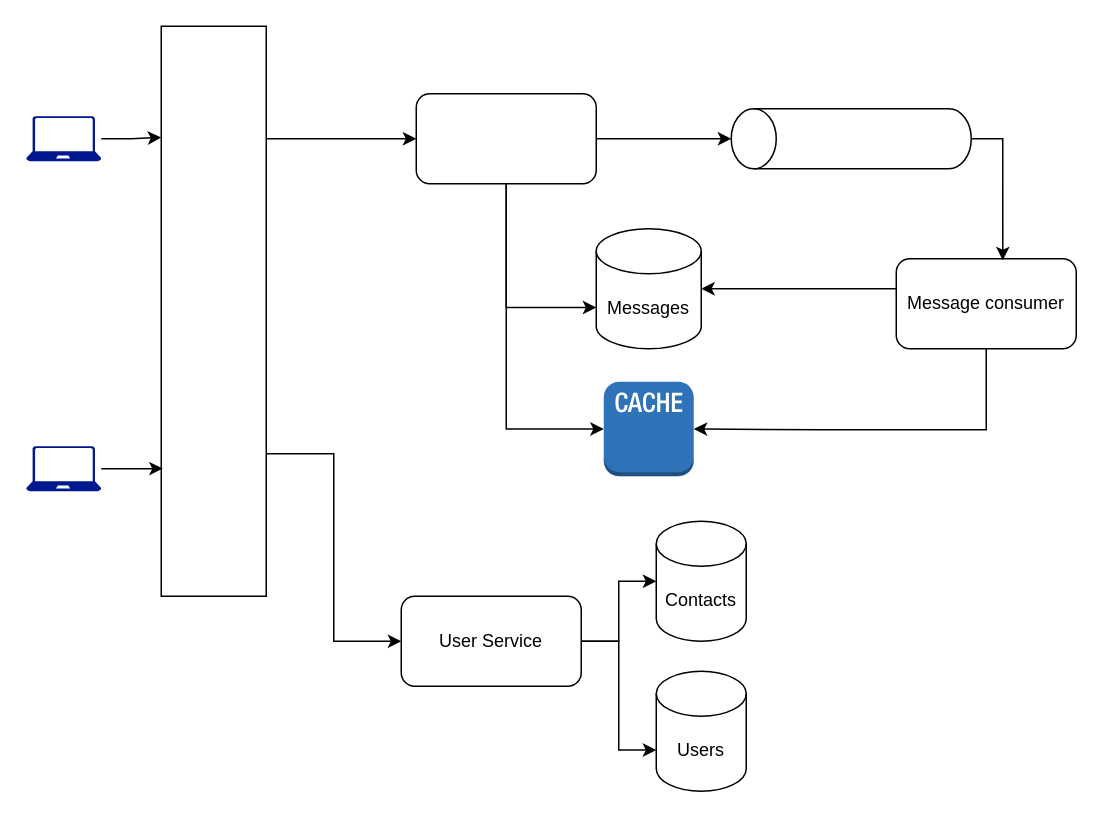
This 1103x818 diagram has some shape labels left out. Here are the shapes that lost their labels. From the top down, the box of each, then its label:
(415, 92, 596, 184): Chat Service
(730, 107, 971, 169): Message queue
(160, 25, 266, 596): API Gateway + Load Balancer
